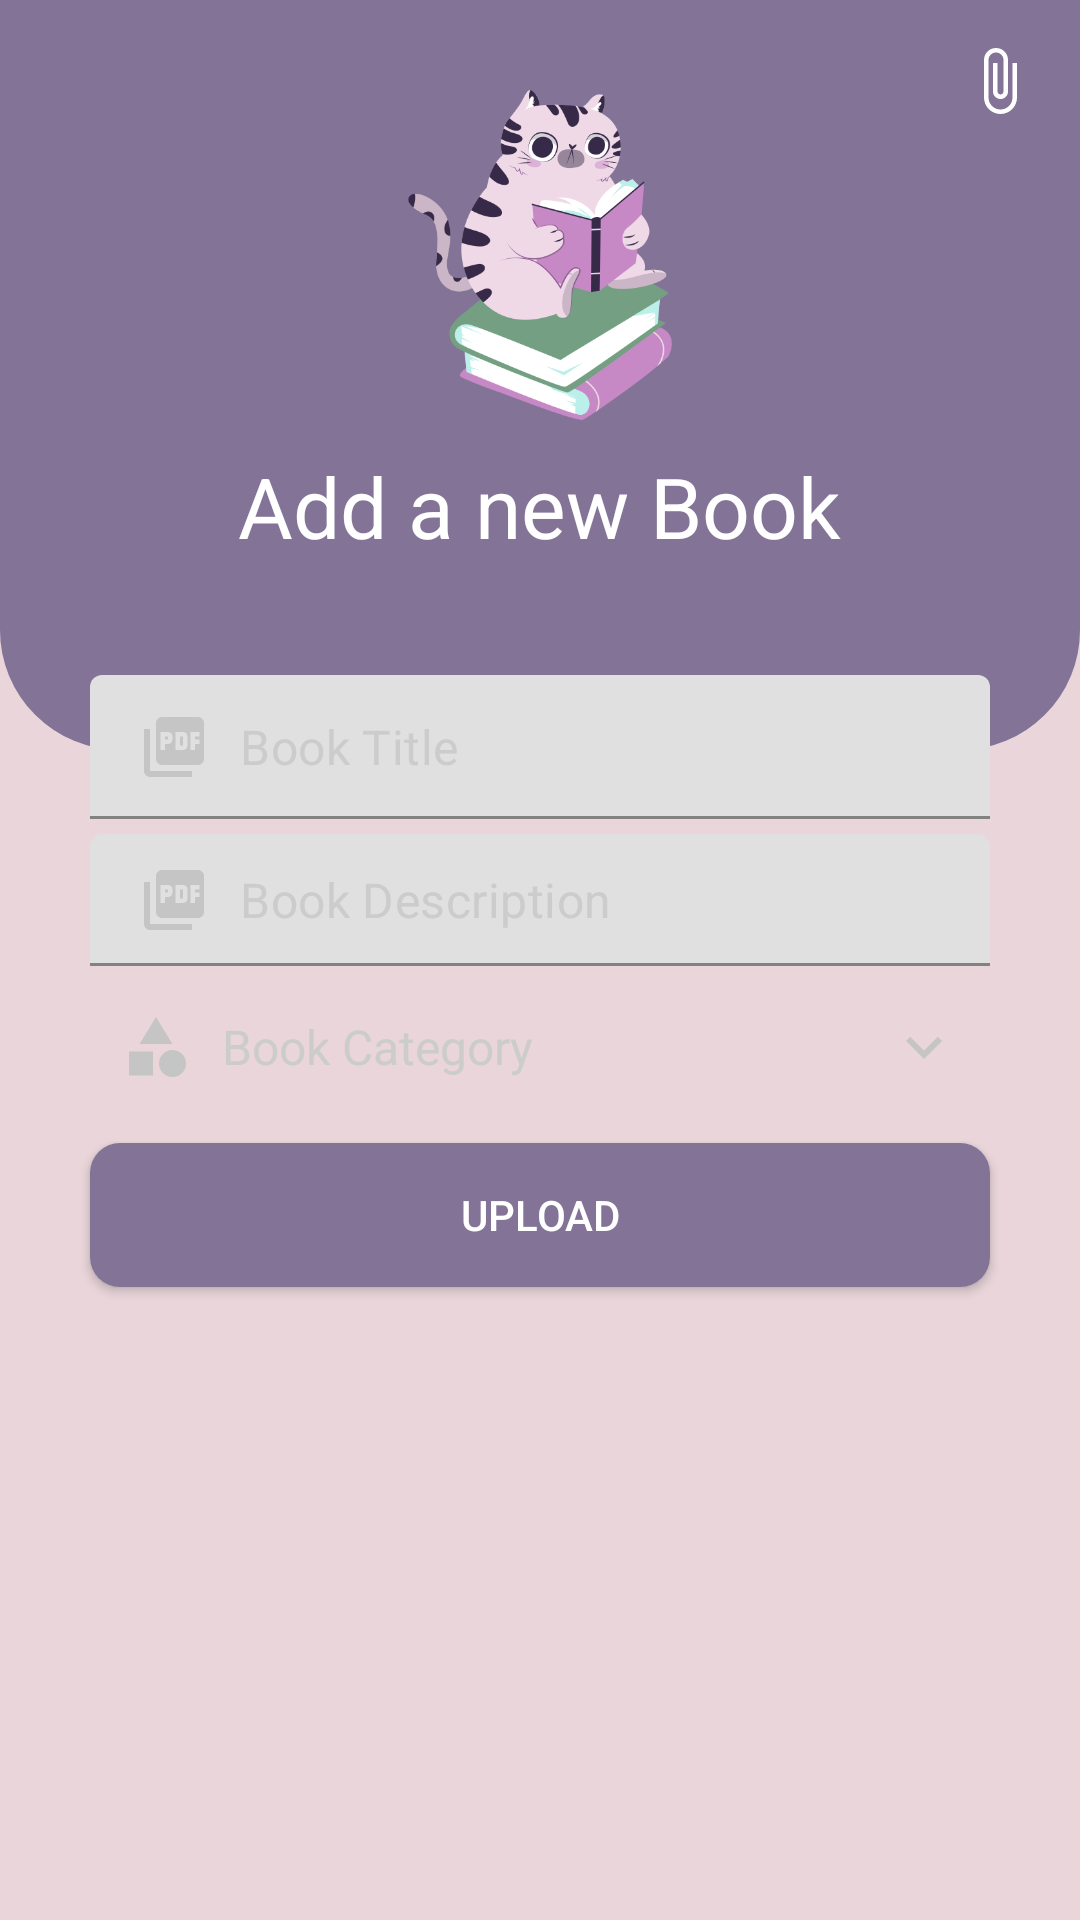

Icon bounding boxes for this 1080*1920 phone screenshot, format (x1, y1, x2, y2):
attach: (984, 48, 1017, 114)
